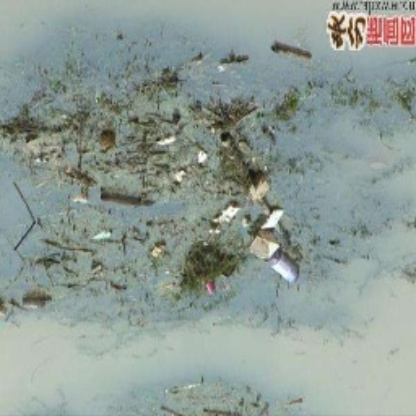bottle: (271, 253, 301, 286)
